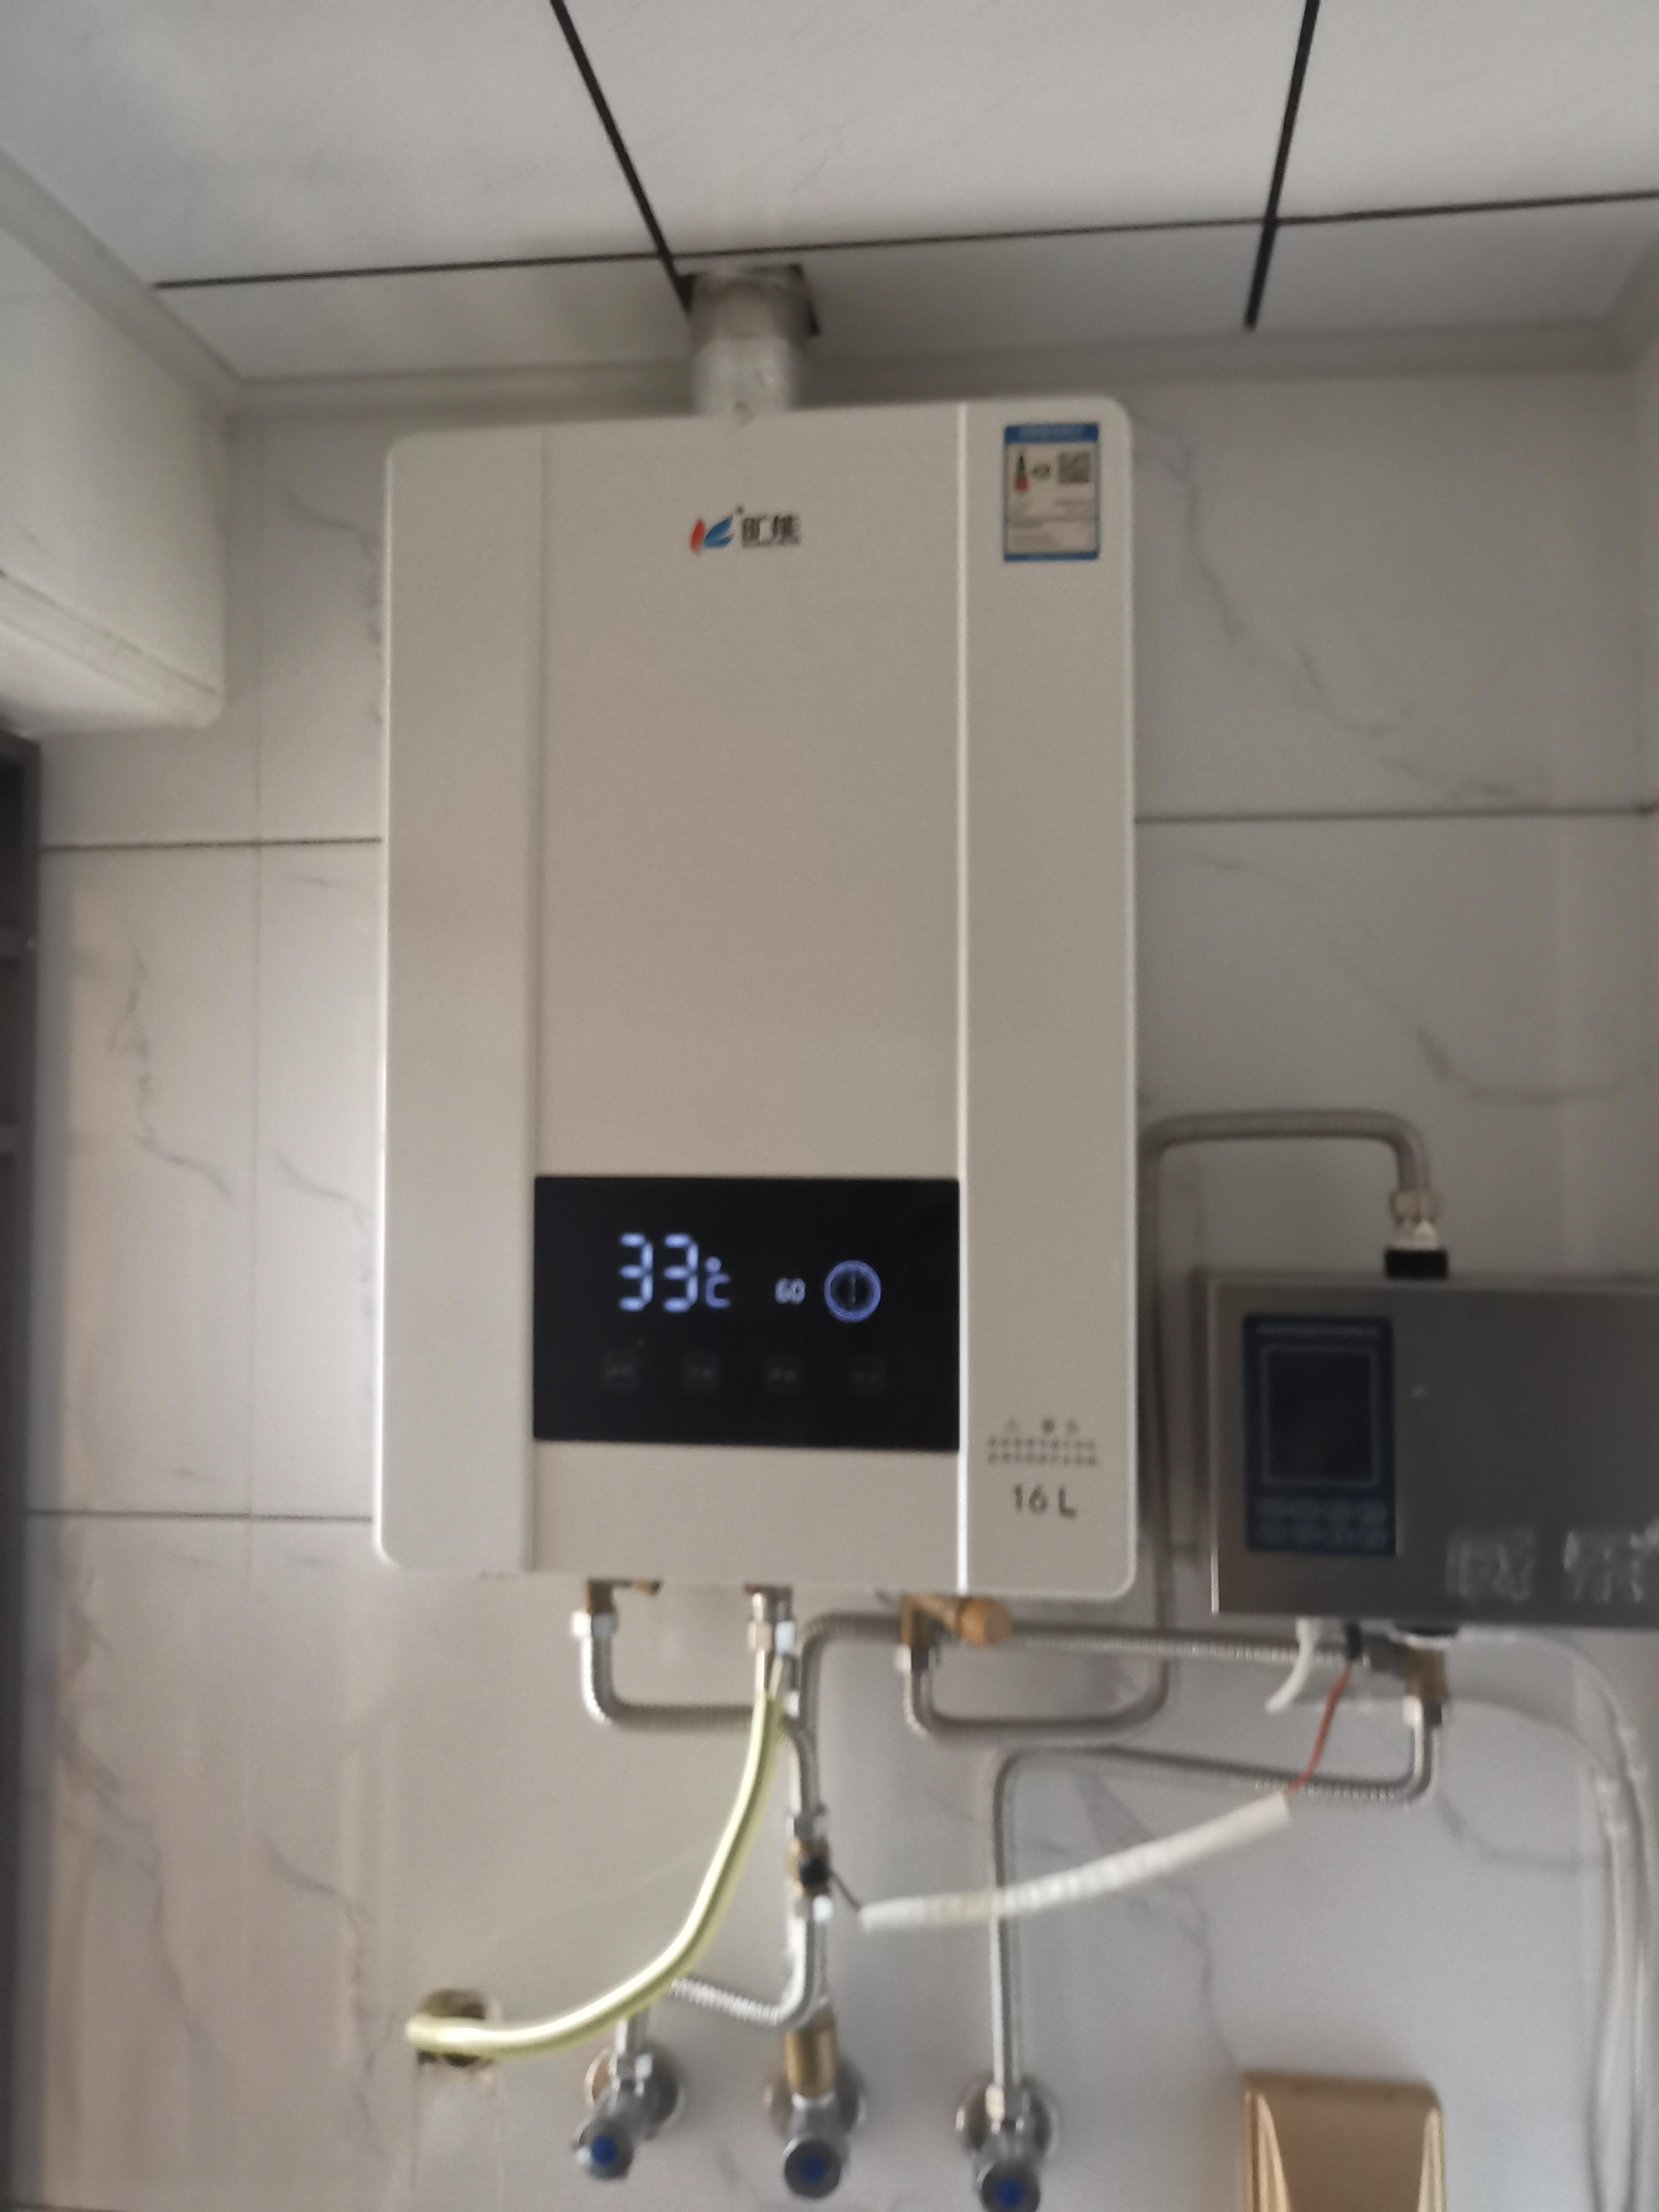loudou: (676, 498, 824, 573)
